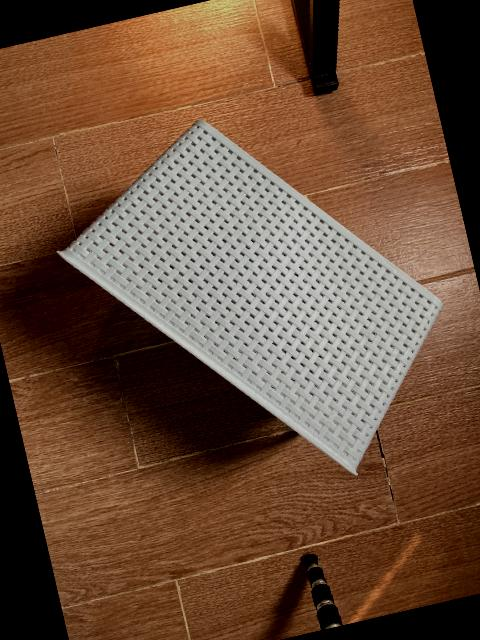cart: (56, 116, 440, 473)
